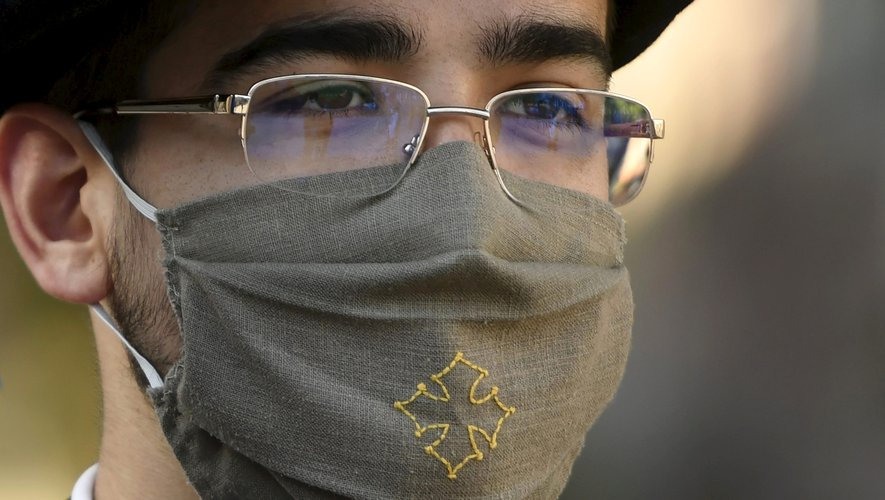with_mask: (93, 45, 658, 500)
